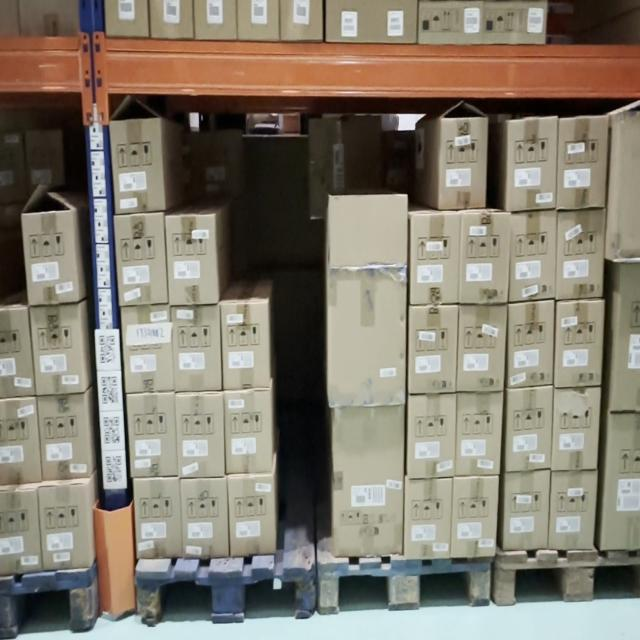box: (332, 272, 405, 410), (334, 410, 404, 553), (22, 211, 77, 306), (29, 307, 85, 396), (166, 215, 222, 296), (38, 395, 90, 478), (112, 123, 162, 209), (40, 486, 92, 567), (117, 218, 168, 300), (409, 304, 457, 389), (559, 120, 606, 206), (459, 303, 503, 393), (226, 480, 278, 555), (170, 308, 221, 384), (412, 214, 456, 300), (441, 124, 486, 208), (223, 304, 272, 381), (124, 309, 172, 387), (509, 305, 554, 388), (509, 126, 555, 207), (454, 397, 502, 474), (557, 304, 604, 381), (227, 392, 272, 471), (464, 214, 506, 298), (558, 212, 601, 293), (175, 396, 224, 467), (554, 390, 600, 464), (552, 470, 596, 547), (410, 397, 453, 475), (131, 396, 174, 474), (513, 215, 554, 296), (135, 478, 178, 555), (511, 391, 552, 468), (505, 473, 546, 549), (454, 479, 495, 554), (182, 479, 224, 552), (408, 482, 445, 548)
